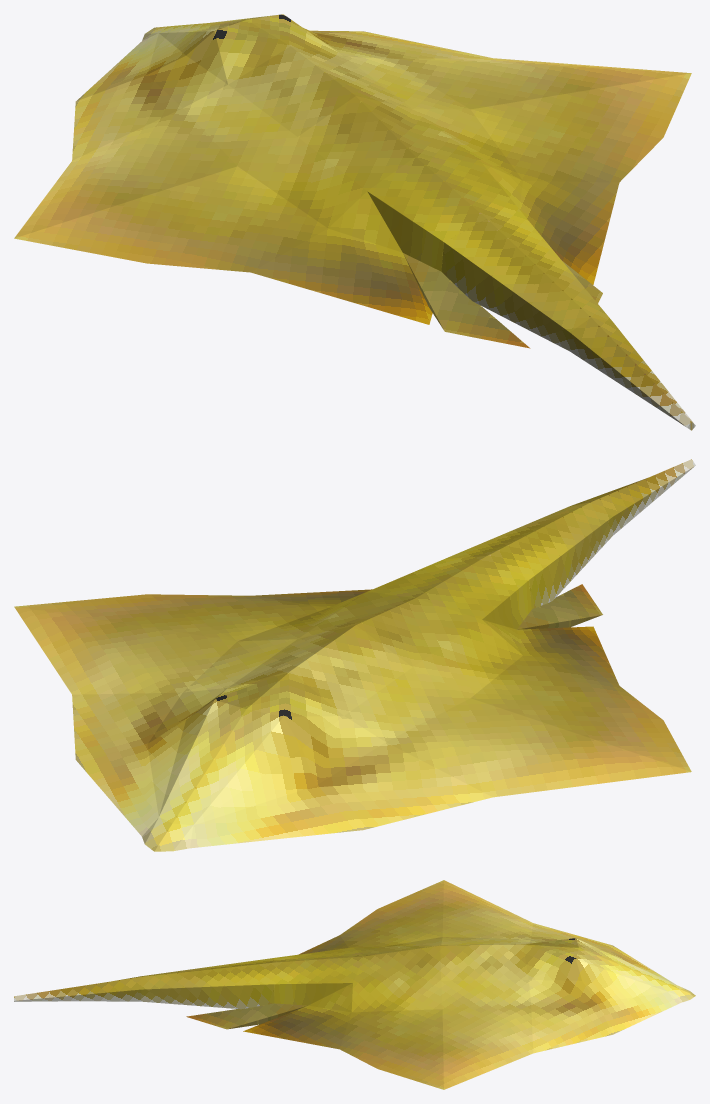
The model's file is Ray_Ray_Yellow.glb.
3 renders of one model, top to bottom at view 1: azimuth 30°, elevation 25°; view 2: azimuth 150°, elevation 25°; view 3: azimuth 270°, elevation 25°, orthographic. The views are drawn at different scales.
Visible parts, largest first — view 1: Body, Tail1, Tail2; view 2: Body, Tail1, Tail2; view 3: Body, Tail1, Tail2.
Boxes of the visible parts, x1,y1,x2,y2 form: Body: [14, 14, 691, 348]; Tail1: [441, 219, 612, 350]; Tail2: [569, 317, 695, 430]; Body: [14, 556, 691, 851]; Tail1: [444, 502, 612, 609]; Tail2: [571, 459, 695, 535]; Body: [186, 880, 695, 1089]; Tail1: [141, 958, 274, 1009]; Tail2: [14, 976, 141, 1001].
Bounding box in the file's own units: 0.7268 × 0.1155 × 0.9979.
Materials: 1 (1 with a texture image).
